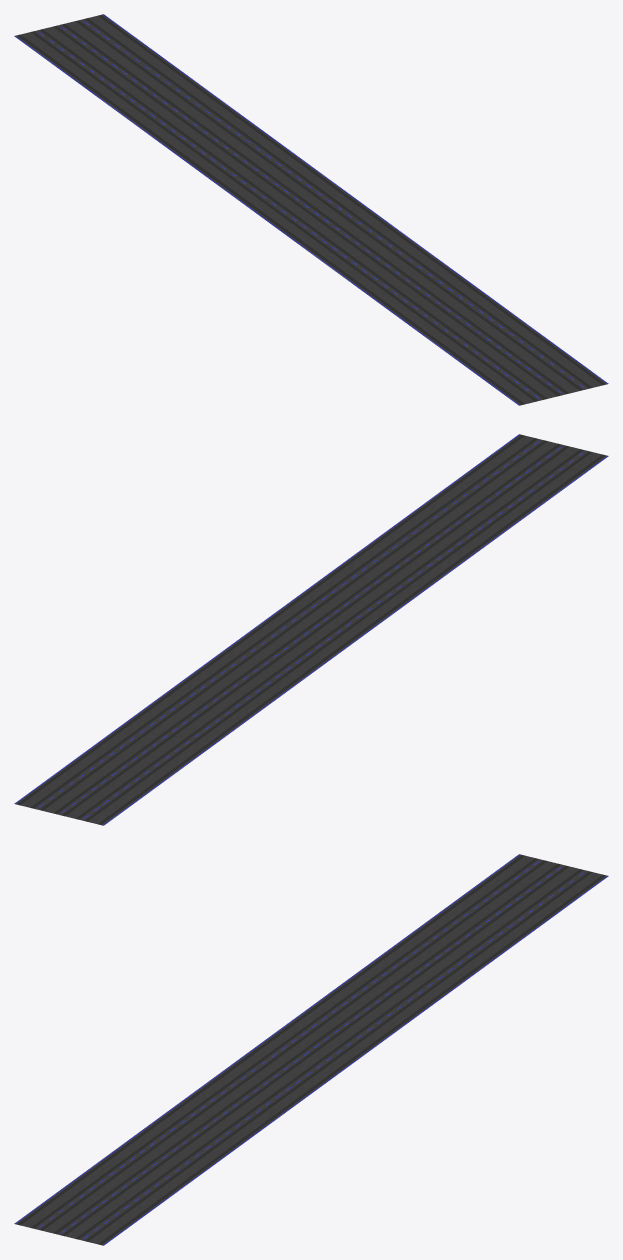
The model's file is 4 полосы .fbx.
3 renders of one model, top to bottom at view 1: azimuth 30°, elevation 25°; view 2: azimuth 150°, elevation 25°; view 3: azimuth 330°, elevation 25°, orthographic.
Visible parts, largest first — view 1: Plane.; view 2: Plane.; view 3: Plane..
Boxes of the visible parts, <box> form: Plane.: <box>14,14,608,405</box>; Plane.: <box>14,434,608,825</box>; Plane.: <box>14,854,608,1245</box>.
Size of the model in its own units: 2002 by 1.5 by 19500.
Materials: 2 (2 with a texture image).
